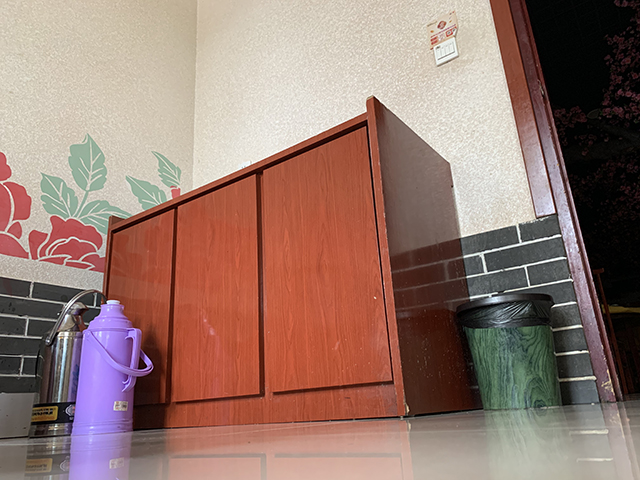cabinet: (100, 93, 483, 425)
trashcan: (455, 291, 564, 410)
